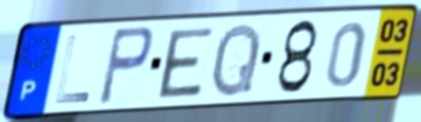0: (323, 20, 372, 90)
8: (276, 17, 321, 96)
E: (156, 25, 217, 100)
L: (53, 32, 93, 106)
P: (95, 24, 156, 108)
Q: (208, 20, 264, 100)
